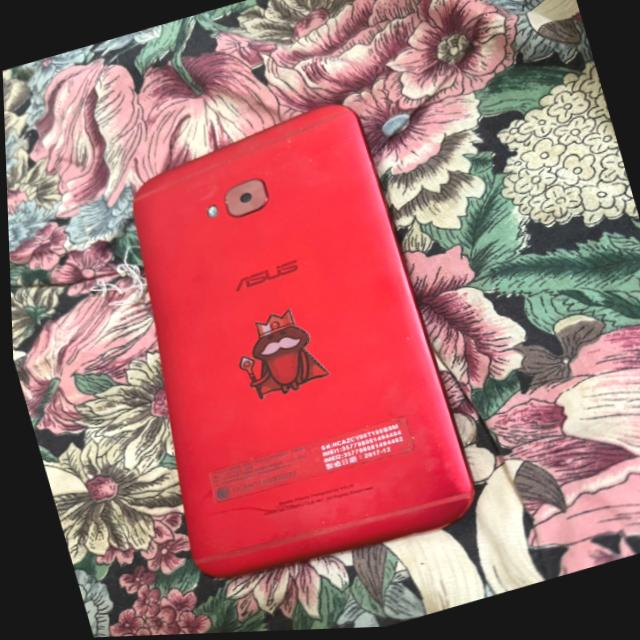Smartphone: (131, 107, 469, 580)
